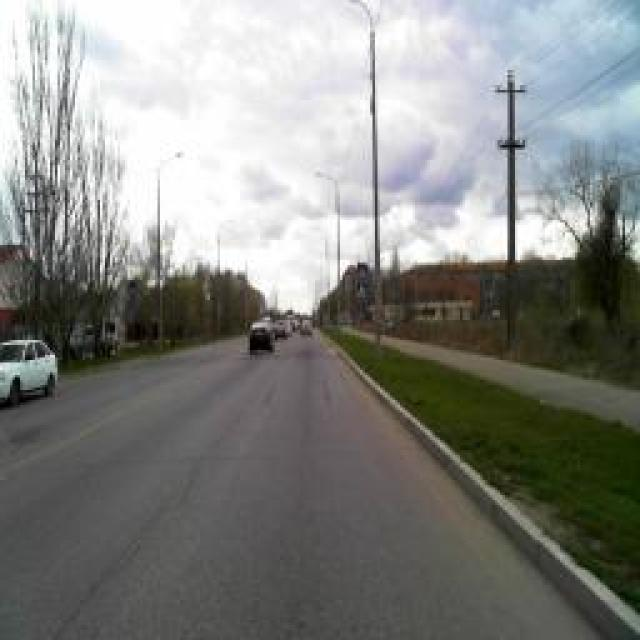sign: (358, 262, 368, 280), (356, 282, 366, 300), (129, 280, 136, 295)
